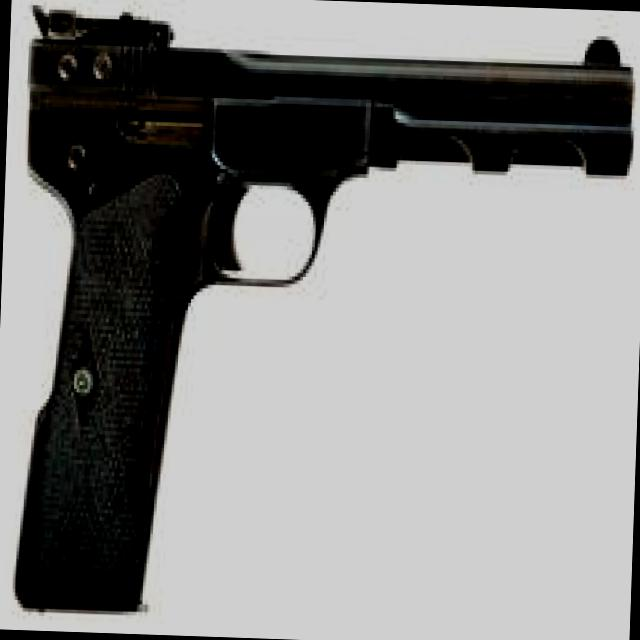semi automatic: (2, 0, 639, 638)
